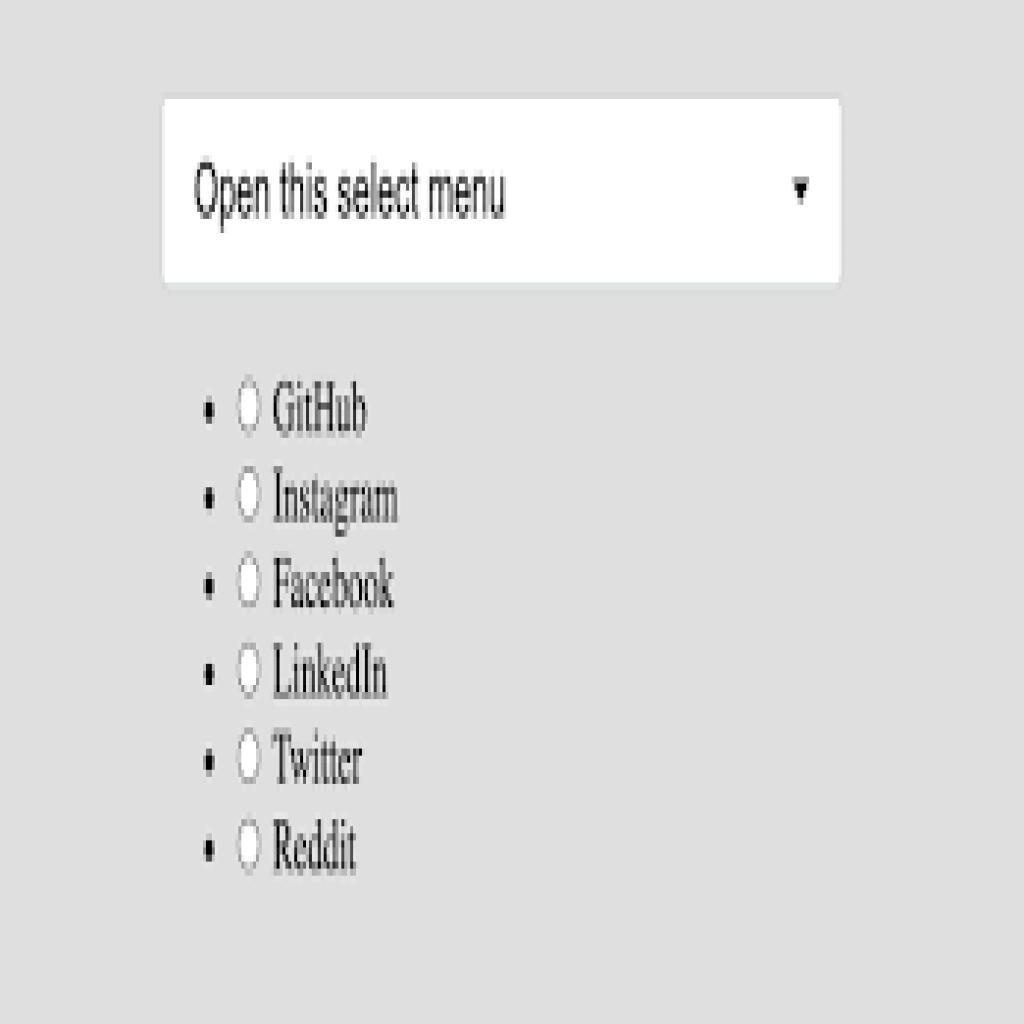dropdown: (162, 101, 842, 284)
radio: (227, 374, 267, 441), (234, 808, 265, 893), (232, 464, 271, 529), (236, 721, 266, 795), (236, 545, 268, 612), (238, 635, 266, 702)
